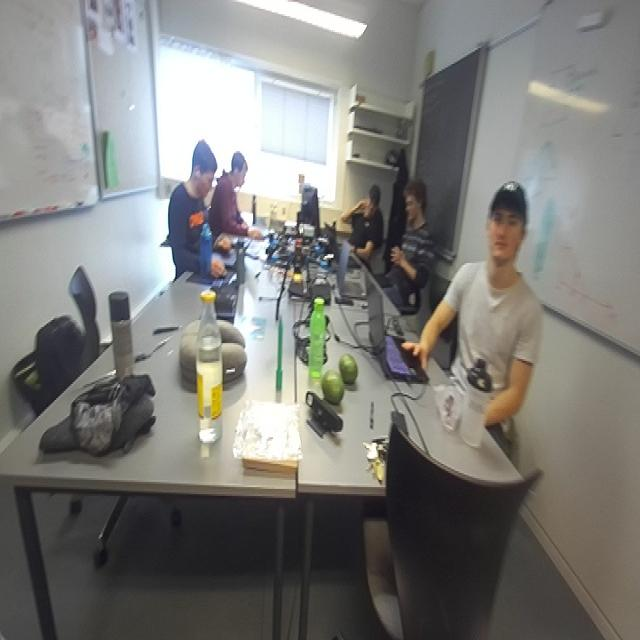probe: (277, 316, 282, 391)
